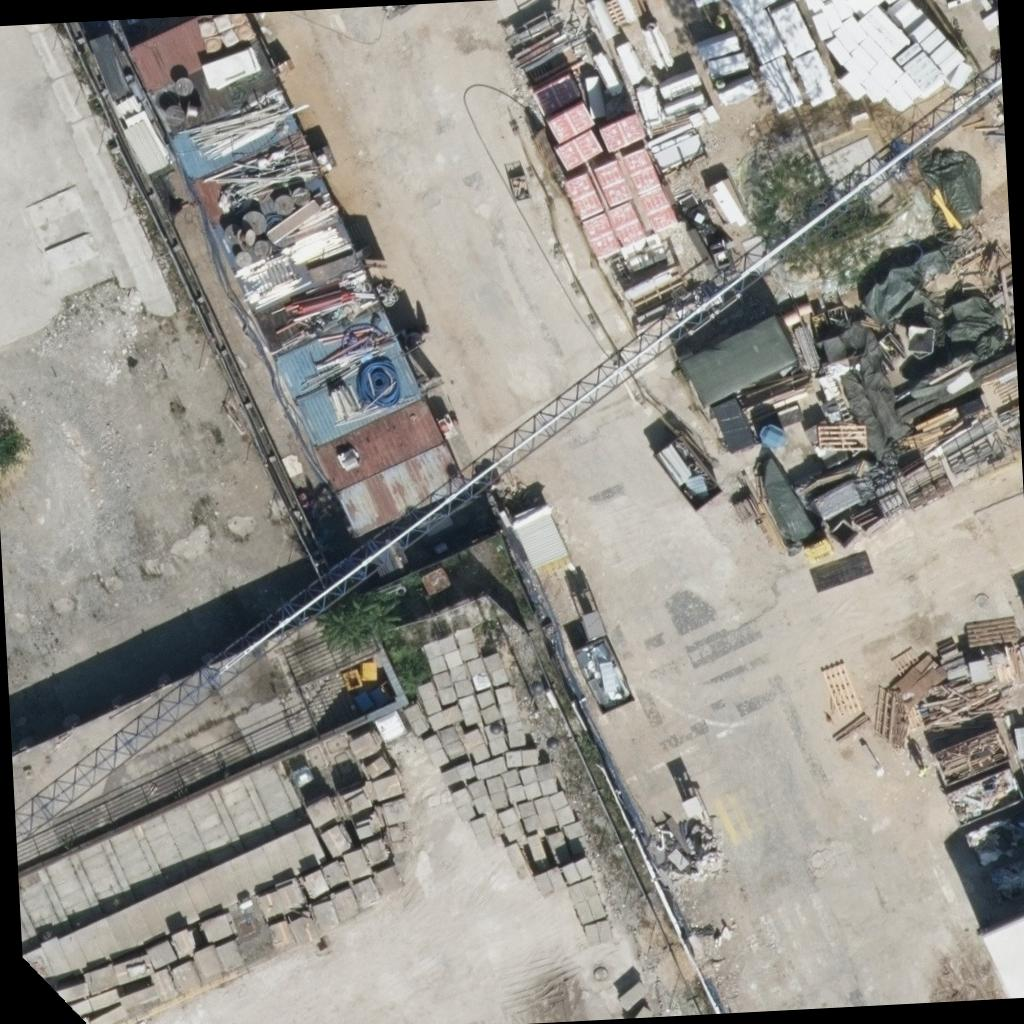zuraw_wiezowy: (0, 33, 1024, 855)
